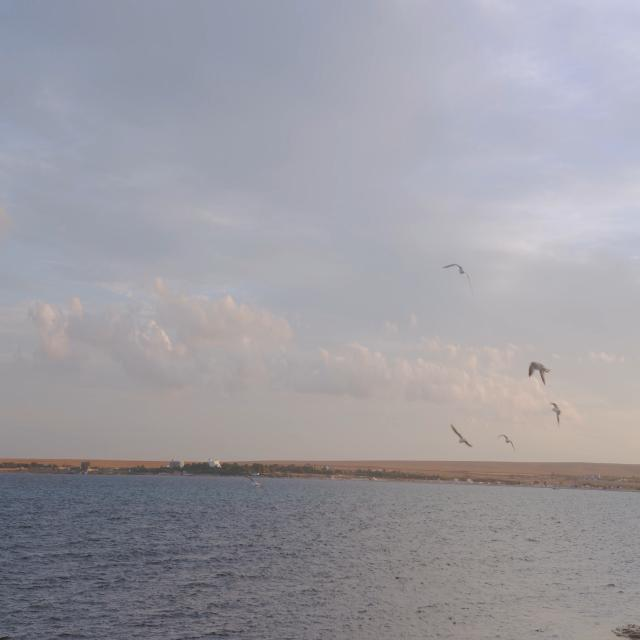bird: (438, 252, 476, 302), (448, 409, 476, 461), (524, 348, 552, 387), (497, 422, 519, 459), (548, 397, 562, 428)
